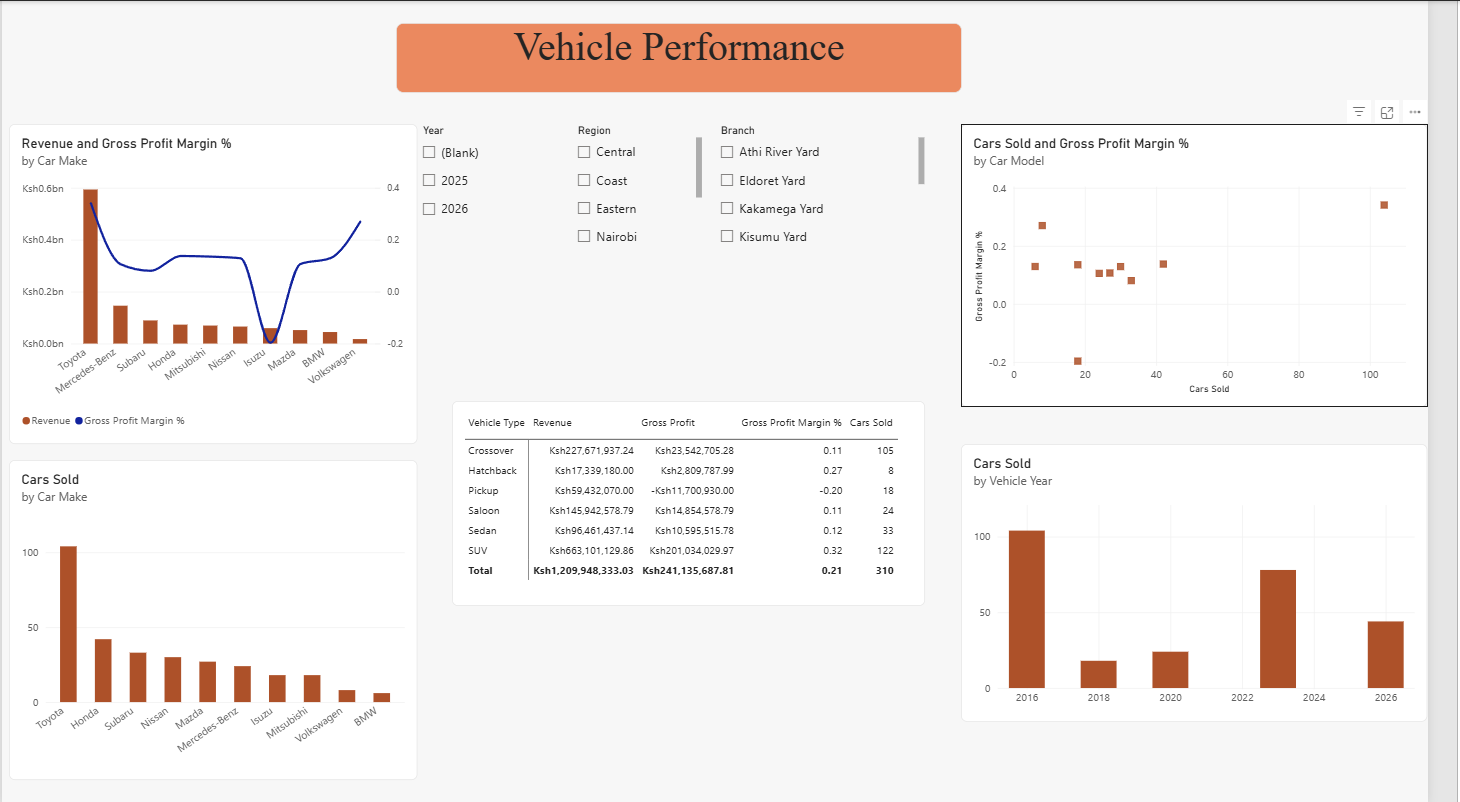

What the dashboard file says about the page in this screenshot:
{"tool":"powerbi","page":{"name":"Page 2","canvas":[1920,1080],"ordinal":1},"visuals":[{"type":"lineClusteredColumnComboChart","fields":{"Category":["Vehicles_dmTable.Car Make"],"Y":["Jcars_Measures.Revenue"],"Y2":["Jcars_Measures.Gross Profit Margin %"]},"box":[9.2,165.6,550.3,430.7],"z":0},{"type":"clusteredColumnChart","fields":{"Category":["Vehicles_dmTable.Car Make"],"Y":["Jcars_Measures.Cars Sold"]},"box":[9.2,618.4,550,431],"z":1000},{"type":"pivotTable","fields":{"Rows":["Vehicles_dmTable.Vehicle Type"],"Values":["Jcars_Measures.Revenue","Jcars_Measures.Gross Profit","Jcars_Measures.Gross Profit Margin %","Jcars_Measures.Cars Sold"]},"box":[605.5,539.3,636.8,276.1],"z":2000},{"type":"scatterChart","fields":{"Category":["Vehicles_dmTable.Car Model"],"X":["Jcars_Measures.Cars Sold"],"Y":["Jcars_Measures.Gross Profit Margin %"]},"box":[1292,165.6,627.6,381],"z":3000},{"type":"clusteredColumnChart","fields":{"Category":["Vehicles_dmTable.Vehicle Year"],"Y":["Jcars_Measures.Cars Sold"]},"box":[1292,596.3,627.6,373.6],"z":4000},{"type":"textbox","box":[530.1,29.4,762,93.9],"z":5000},{"type":"slicer","fields":{"Values":["Date_dmTable.Year"]},"box":[559.5,165.6,208,165.6],"z":6000},{"type":"slicer","fields":{"Values":["Region_dmTable.Region"]},"box":[767.5,165.6,174.8,165.6],"z":7000},{"type":"slicer","fields":{"Values":["Branch_dmTable.Branch"]},"box":[960.7,165.6,281.6,165.6],"z":8000}]}

Visuals, with their boxes in screenshot pixels (x1, y1, x2, y2), scaled from the page's 1920x1080 canvas onto the 1460x802 screenshot:
lineClusteredColumnComboChart - Vehicles_dmTable.Car Make x Jcars_Measures.Revenue: (7, 123, 425, 443)
clusteredColumnChart - Vehicles_dmTable.Car Make x Jcars_Measures.Cars Sold: (7, 459, 425, 779)
pivotTable - Vehicles_dmTable.Vehicle Type x Jcars_Measures.Revenue: (460, 400, 945, 606)
scatterChart - Vehicles_dmTable.Car Model x Jcars_Measures.Cars Sold: (982, 123, 1459, 406)
clusteredColumnChart - Vehicles_dmTable.Vehicle Year x Jcars_Measures.Cars Sold: (982, 443, 1459, 720)
textbox: (403, 22, 983, 92)
slicer - Date_dmTable.Year: (425, 123, 584, 246)
slicer - Region_dmTable.Region: (584, 123, 717, 246)
slicer - Branch_dmTable.Branch: (731, 123, 945, 246)
